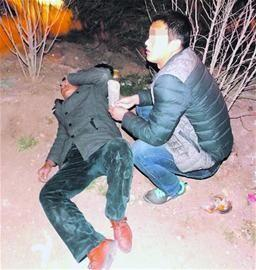Fall-Detected: (32, 54, 141, 269)
